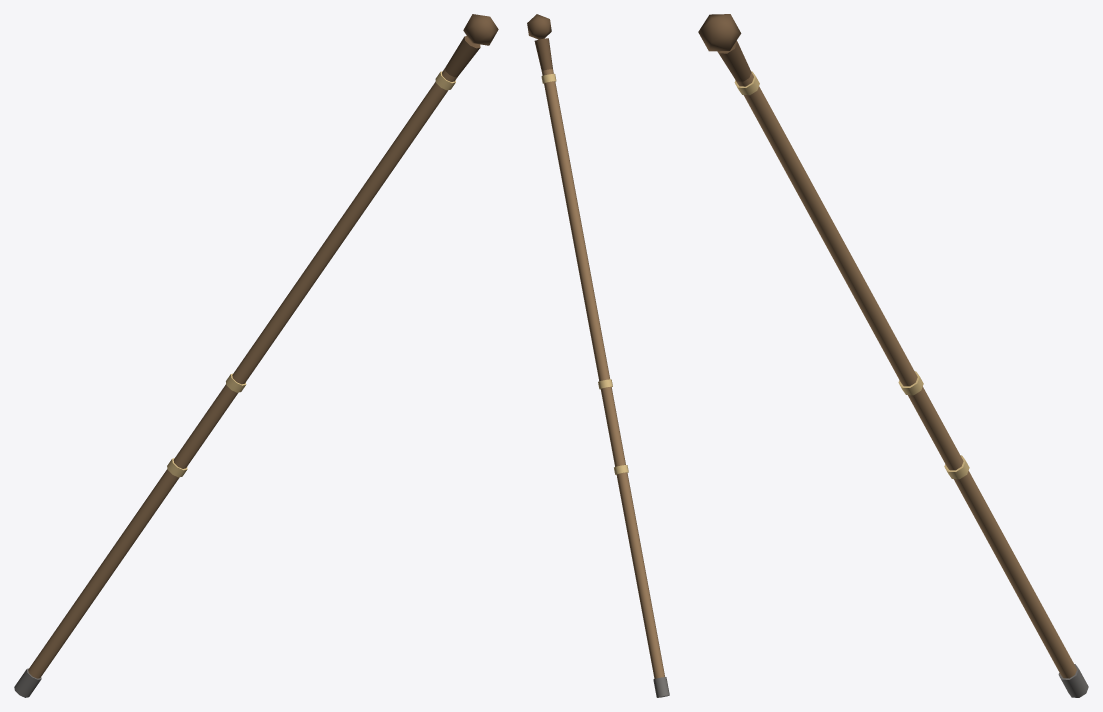
Rendered from wpn_staff.glb.
The picture shows the model from 3 angles, left to right: view 1: azimuth 30°, elevation 25°; view 2: azimuth 150°, elevation 25°; view 3: azimuth 270°, elevation 25°; orthographic projection. The views are drawn at different scales.
Parts seen in each view (by area): view 1: wpn_staff; view 2: wpn_staff; view 3: wpn_staff.
Part boxes in pixels (box(x1,y1,x2,y2)): wpn_staff: box(14, 14, 498, 697); wpn_staff: box(527, 14, 669, 697); wpn_staff: box(698, 14, 1088, 697).
Size of the model in its own units: 0.469 by 0.9604 by 0.3941.
